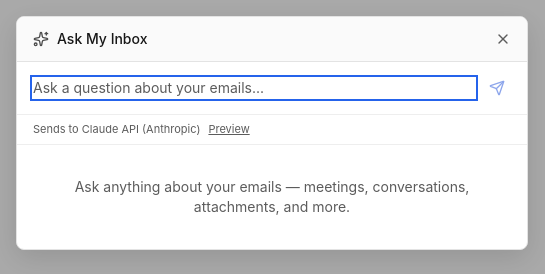
AskInbox › names the provider and arms the send preview for the next question
The image size is (545, 274).
Expected: the text "Sends to Claude API (Anthropic)" is shown, [33,121,200,138]
Click the button "Preview" at (229, 129), box [208,121,250,138]
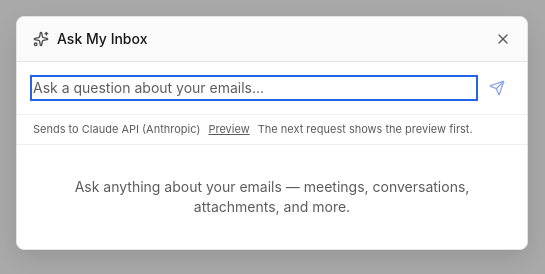
Expected: the text "The next request shows the preview first." is shown, [258,121,473,138]
